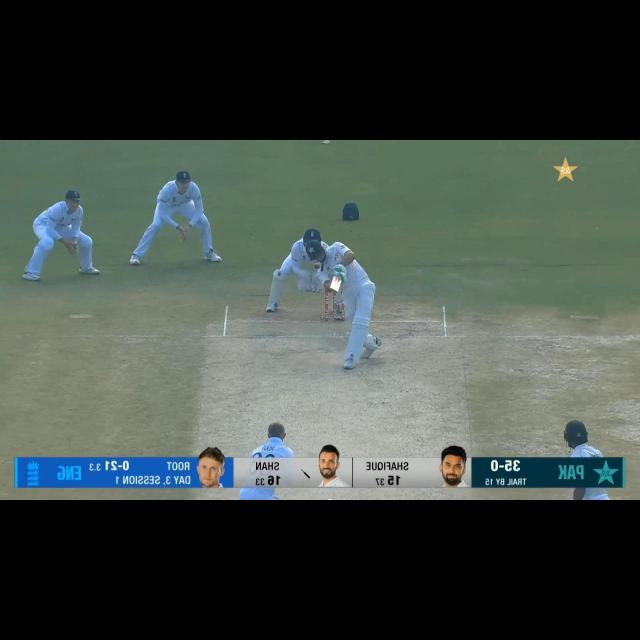bat: (329, 272, 342, 296)
toe: (328, 284, 341, 296)
